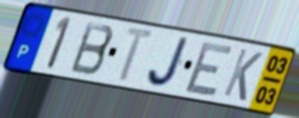1: (45, 15, 74, 73)
B: (68, 19, 116, 78)
E: (182, 41, 236, 98)
J: (146, 35, 193, 89)
K: (220, 46, 265, 104)
T: (116, 25, 158, 85)
